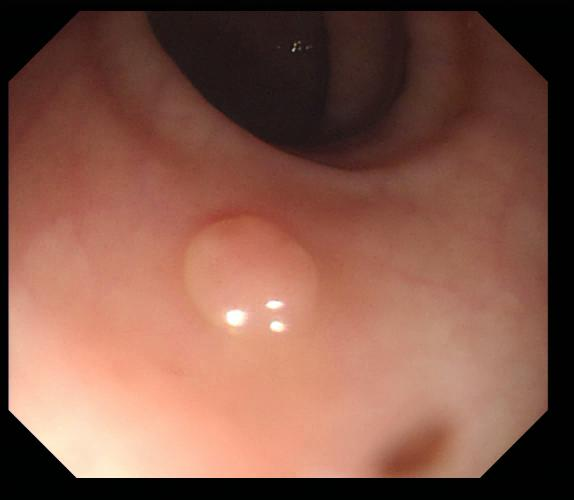polyp: (185, 213, 319, 340)
